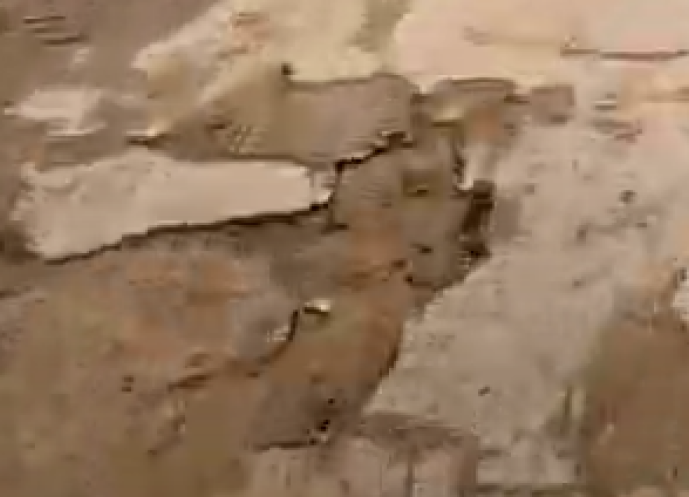Berlubang: (42, 88, 570, 417)
